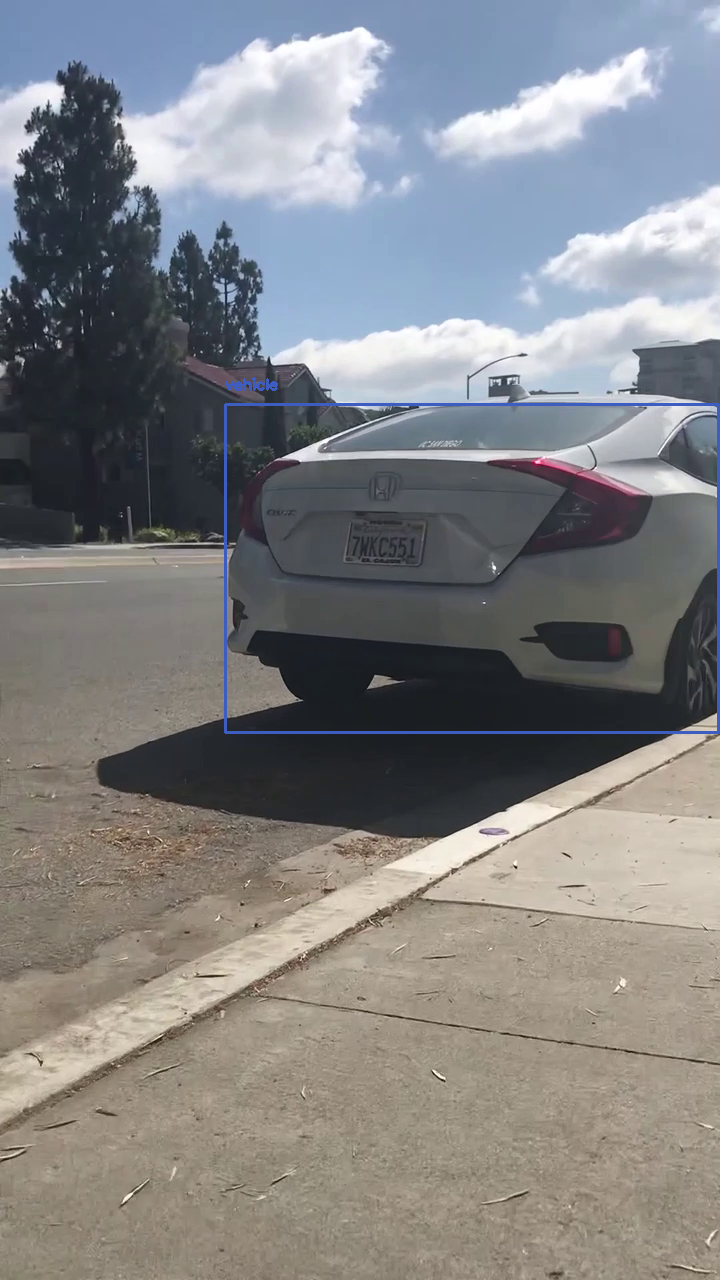vehicle: (225, 404, 718, 732)
